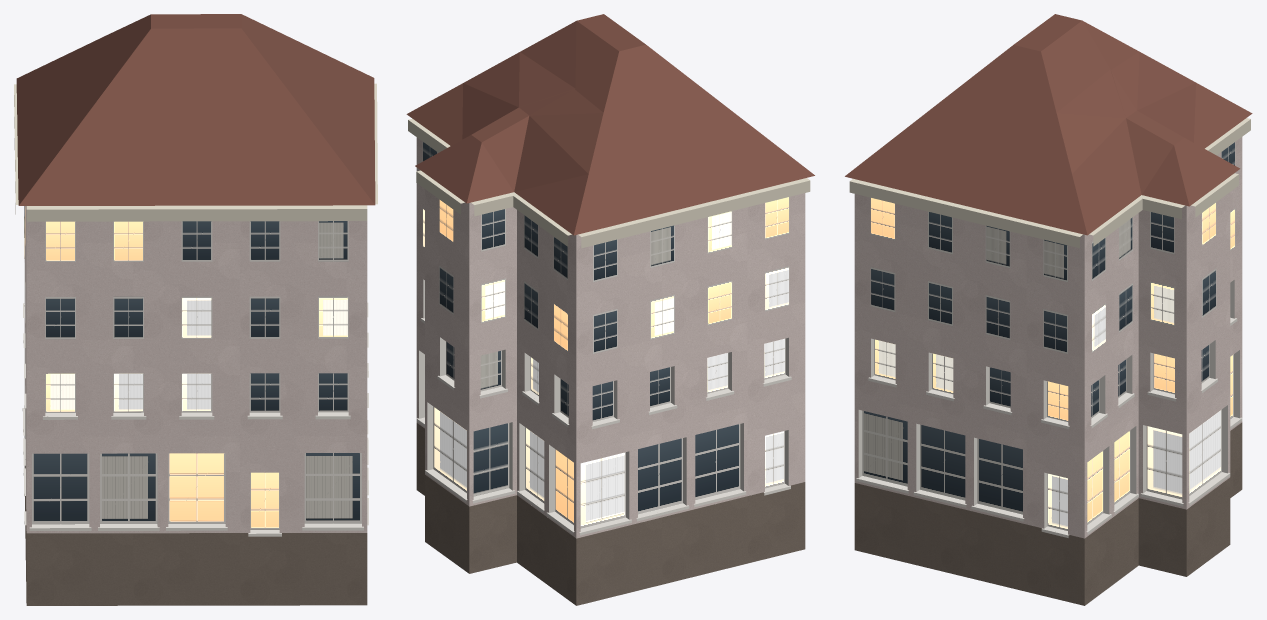
Rendered from z3c_zy_pink.glb.
3 views of the same model, side by side, from view 1: azimuth 30°, elevation 25°; view 2: azimuth 150°, elevation 25°; view 3: azimuth 270°, elevation 25° (orthographic). The views are drawn at different scales.
Parts seen in each view (by area): view 1: z3c_zy_pink; view 2: z3c_zy_pink; view 3: z3c_zy_pink.
Boxes of the visible parts, x1,y1,x2,y2 form: z3c_zy_pink: (14,14,377,605); z3c_zy_pink: (406,14,814,605); z3c_zy_pink: (845,14,1252,605).
Size of the model in its own units: 17.23 by 21.68 by 16.47.
Materials: 3 (3 with a texture image).
